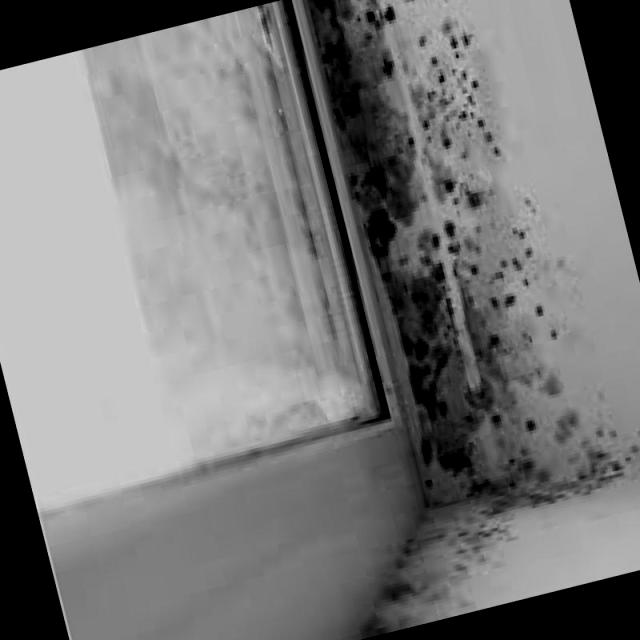stain marks: (296, 0, 639, 633)
